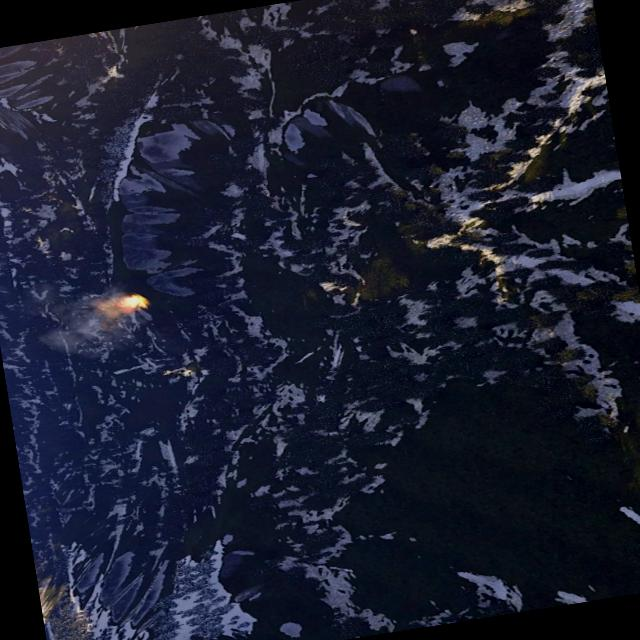fire: (118, 292, 148, 312)
smoke: (30, 286, 128, 358)
